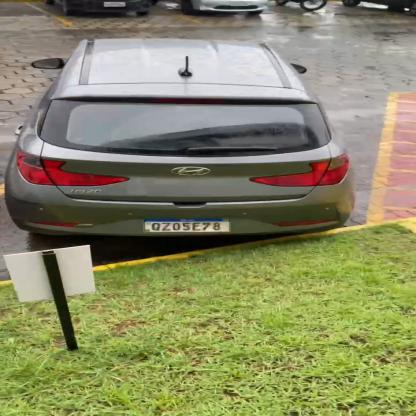Plate: (137, 216, 239, 236)
